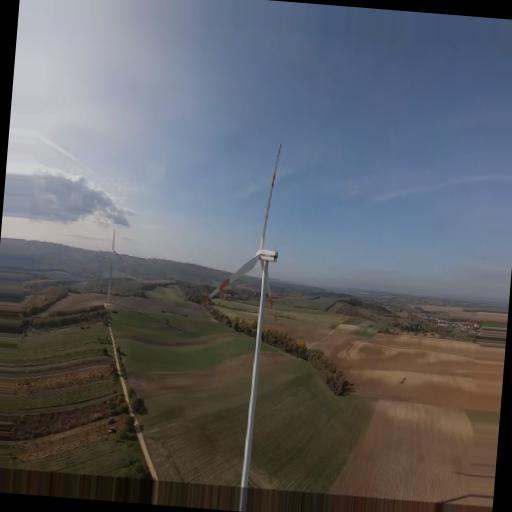wind turbine: (203, 146, 284, 484)
